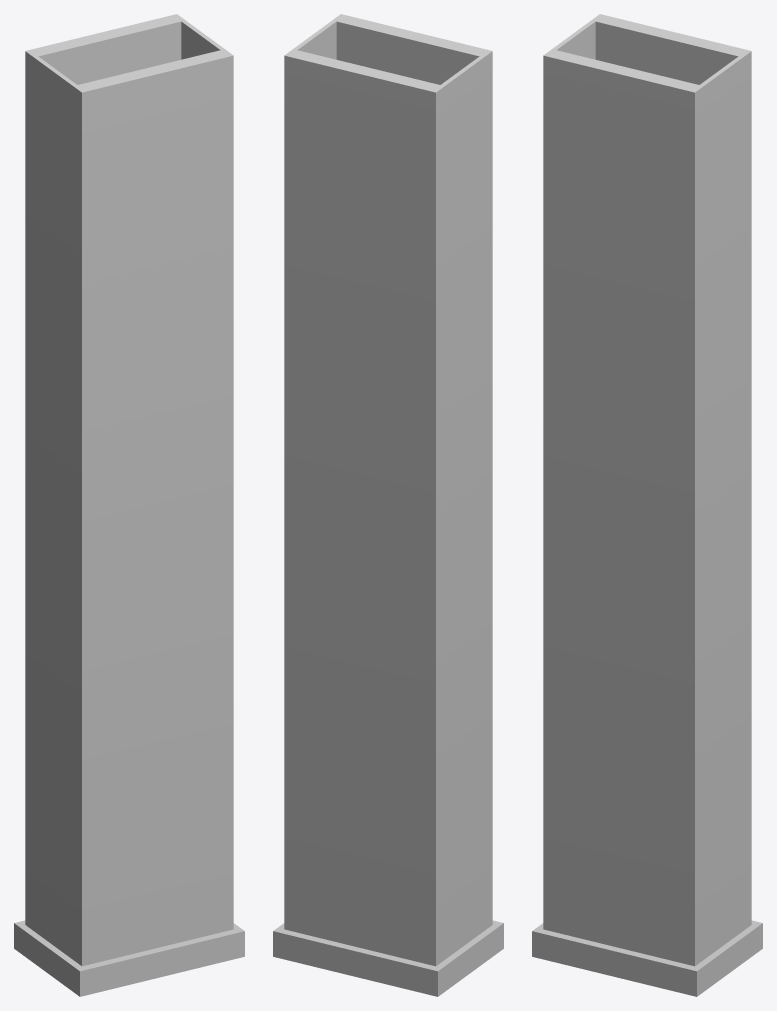
Rendered from Pistol6_02_4.fbx.
3 views of the same model, side by side, from view 1: azimuth 30°, elevation 25°; view 2: azimuth 150°, elevation 25°; view 3: azimuth 330°, elevation 25° (orthographic).
Visible parts, largest first — view 1: Pistol6_02_4; view 2: Pistol6_02_4; view 3: Pistol6_02_4.
Boxes of the visible parts, left/top/right/bottom form: Pistol6_02_4: left=14, top=14, right=244, bottom=996; Pistol6_02_4: left=273, top=14, right=503, bottom=996; Pistol6_02_4: left=532, top=14, right=762, bottom=996.
Size of the model in its own units: 0.0391 by 0.2038 by 0.0271.
